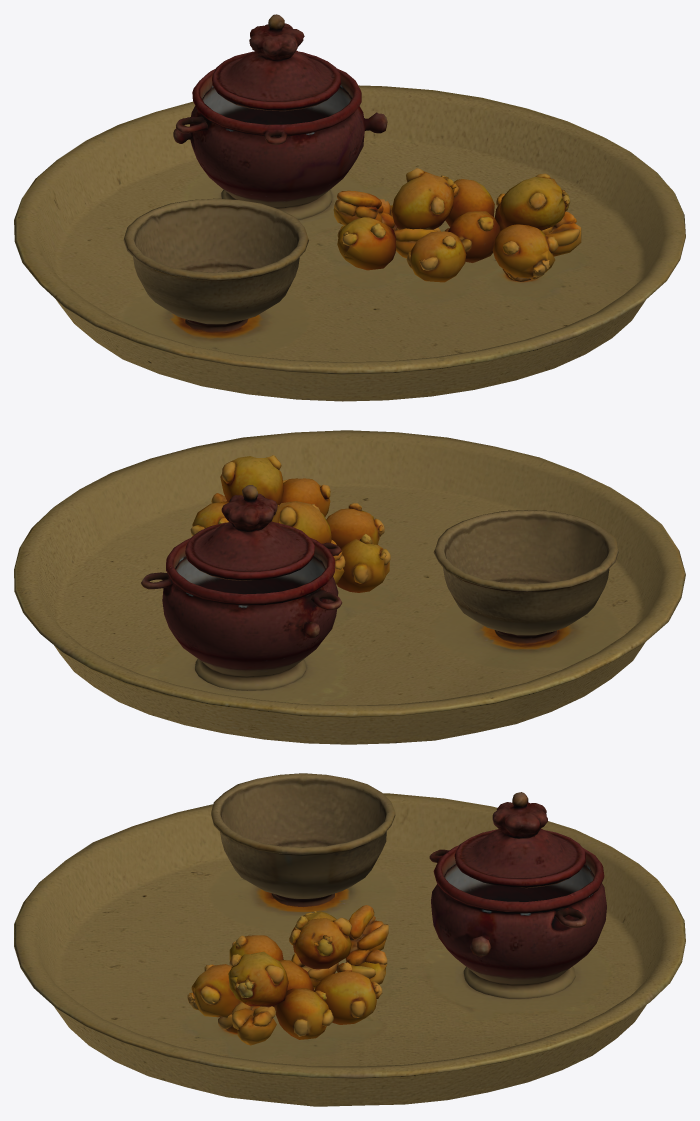
3 views of the same model, one above another, from view 1: azimuth 30°, elevation 25°; view 2: azimuth 150°, elevation 25°; view 3: azimuth 270°, elevation 25° (orthographic).
Parts seen in each view (by area): view 1: tripo_node_48cc9293-0605-41a7-86f5-fc0d37f06e11; view 2: tripo_node_48cc9293-0605-41a7-86f5-fc0d37f06e11; view 3: tripo_node_48cc9293-0605-41a7-86f5-fc0d37f06e11.
Part boxes in pixels (box(x1,y1,x2,y2)): tripo_node_48cc9293-0605-41a7-86f5-fc0d37f06e11: box(14, 14, 685, 401); tripo_node_48cc9293-0605-41a7-86f5-fc0d37f06e11: box(14, 430, 685, 744); tripo_node_48cc9293-0605-41a7-86f5-fc0d37f06e11: box(14, 773, 685, 1106).
Size of the model in its own units: 0.998 by 0.3184 by 0.998.
Materials: 1 (1 with a texture image).
